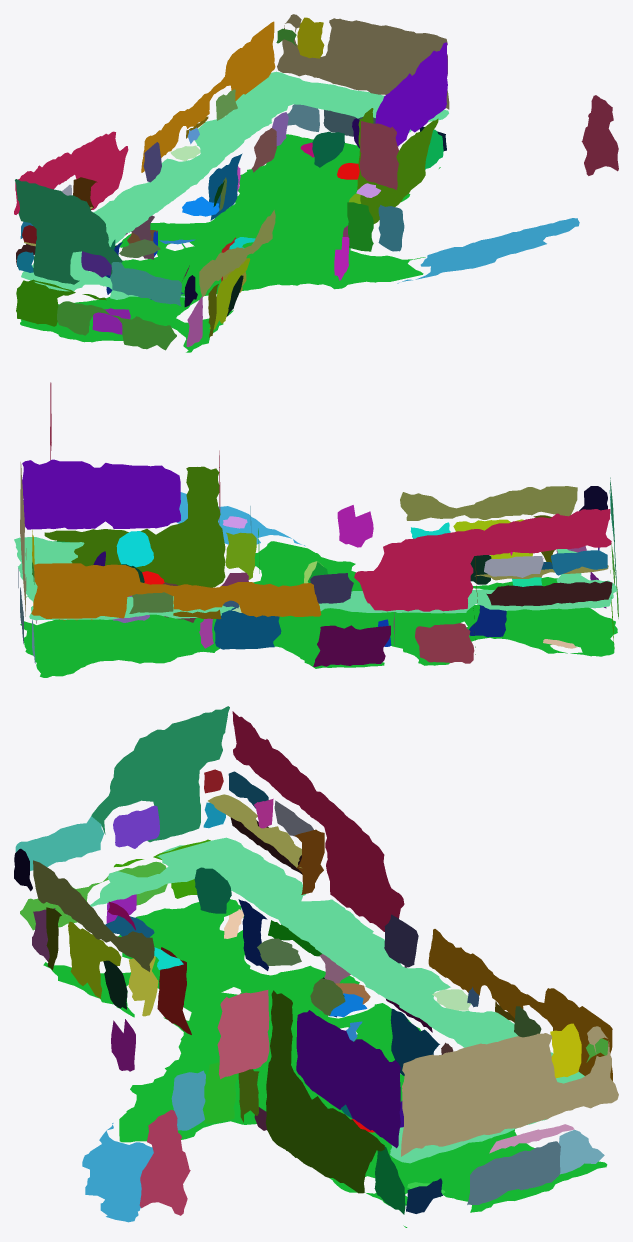
File: pips_scene0131.glb
The picture shows the model from 3 angles, top to bottom: view 1: azimuth 30°, elevation 25°; view 2: azimuth 150°, elevation 25°; view 3: azimuth 270°, elevation 25°; orthographic projection. The views are drawn at different scales.
Visible parts, largest first — view 1: Node1; view 2: Node1; view 3: Node1.
Boxes of the visible parts, left/top/right/bottom form: Node1: left=14, top=14, right=618, bottom=352; Node1: left=14, top=382, right=618, bottom=677; Node1: left=14, top=706, right=618, bottom=1227.
Size of the model in its own units: 8.69 by 2.31 by 6.11.
